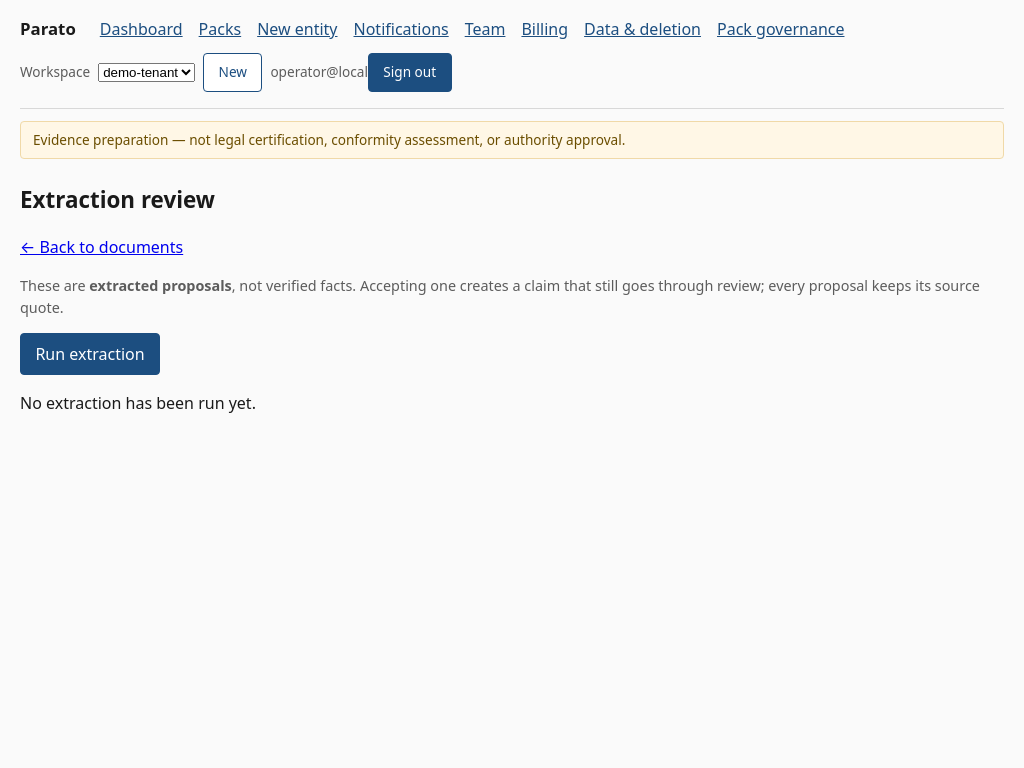
ExtractionReviewPage › runs an extraction, lists proposals, and accepts one
The image size is (1024, 768).
Check: the text "No extraction has been run yet." is shown, box [20,392,256,414]
Click the button "Run extraction" at (90, 354), box [20,333,160,375]
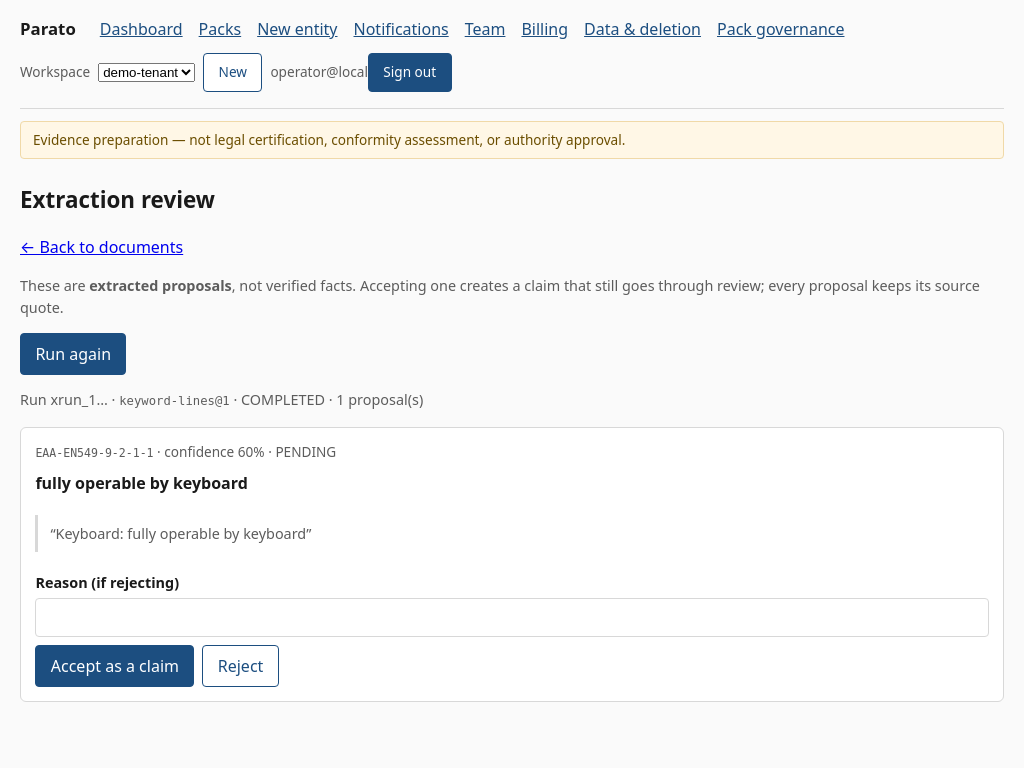
Check: the text "EAA-EN549-9-2-1-1" is shown, box [35,446,154,460]
Check: the text "“Keyboard: fully operable by keyboard”" is shown, box [35,514,989,552]
Click the button "Accept as a claim" at (115, 666), box [35,644,194,686]
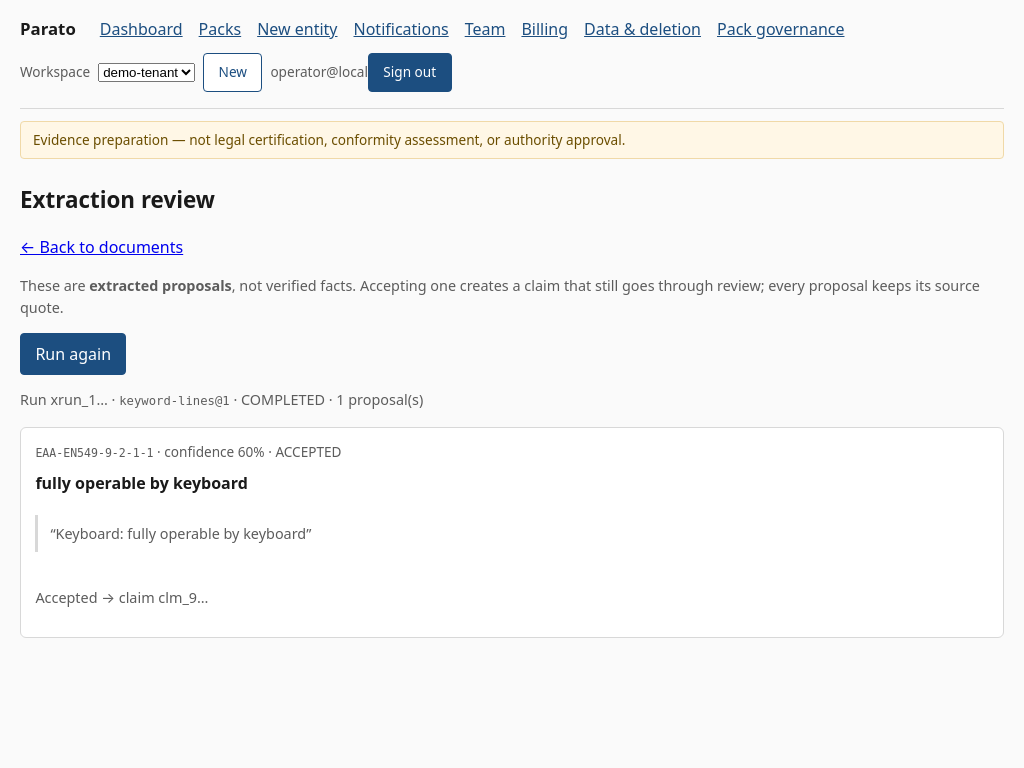
Check: the text "Accepted → claim clm_9…" is shown, box [35,588,208,606]
